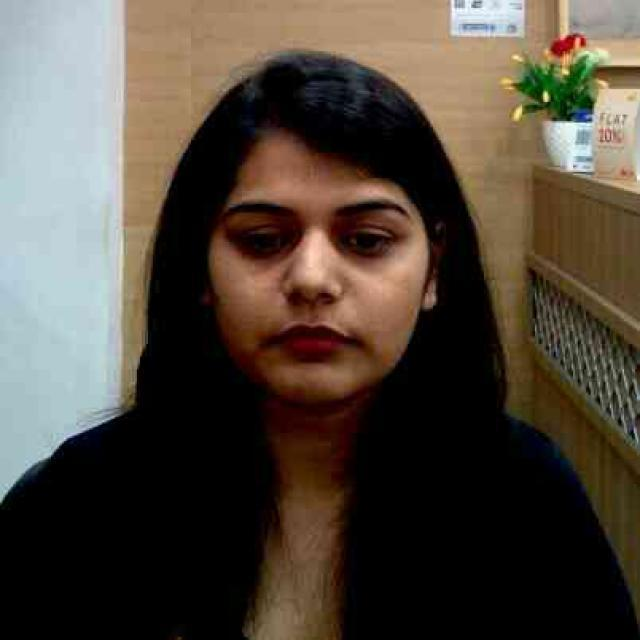puffy_eyes: (232, 234, 300, 265), (332, 241, 393, 266)
